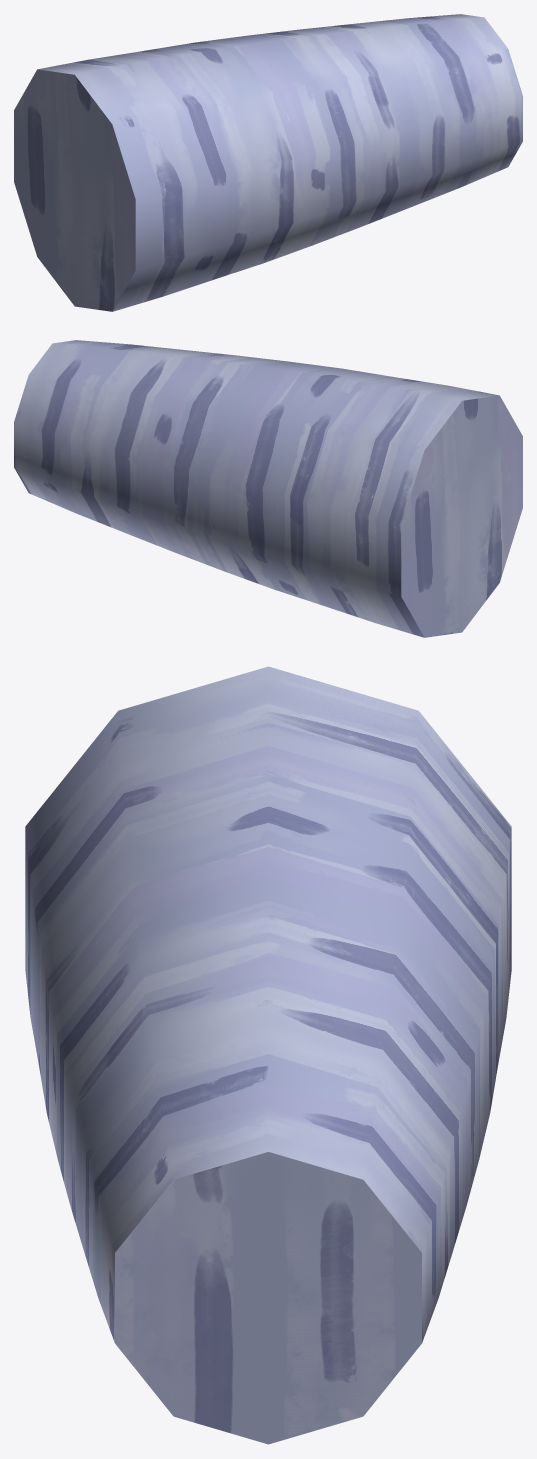
File: Mesh_TreeEnd.fbx
The picture shows the model from 3 angles, top to bottom: view 1: azimuth 30°, elevation 25°; view 2: azimuth 150°, elevation 25°; view 3: azimuth 270°, elevation 25°; orthographic projection. The views are drawn at different scales.
Visible parts, largest first — view 1: pCylinder2; view 2: pCylinder2; view 3: pCylinder2.
Boxes of the visible parts, x1=… form: pCylinder2: x1=14, y1=14, x2=522, y2=311; pCylinder2: x1=14, y1=340, x2=522, y2=637; pCylinder2: x1=25, y1=666, x2=511, y2=1444.
Size of the model in its own units: 44.44 by 24.01 by 22.84.
Materials: 1 (1 with a texture image).
